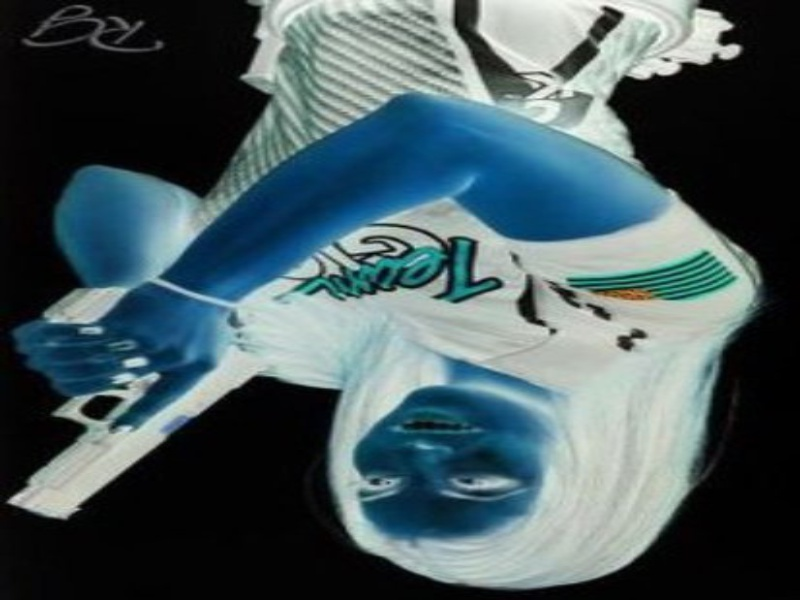knife: (3, 401, 776, 486), (25, 318, 784, 377), (166, 114, 788, 179), (86, 233, 701, 297), (14, 182, 477, 225)
